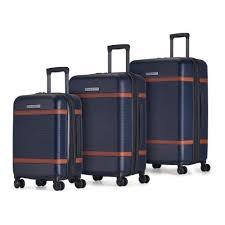suitcase: (127, 30, 212, 175), (68, 44, 151, 189), (9, 65, 85, 190)
